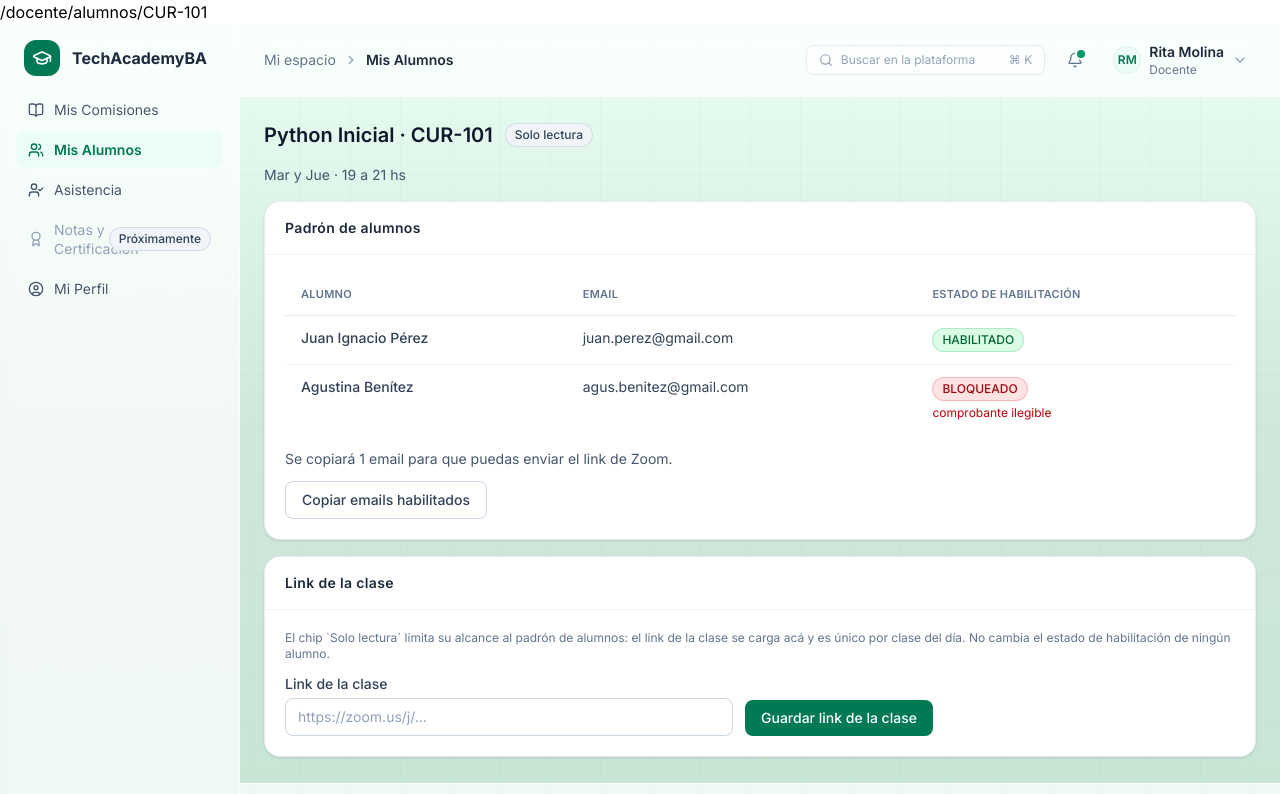
copia de emails habilitados › copia solo el correo del alumno habilitado
The image size is (1280, 794).
Expected: the heading "Python Inicial · CUR-101" is shown, [264,121,493,149]
Click the button "Copiar emails habilitados" at x=386, y=500, box [285,481,487,519]
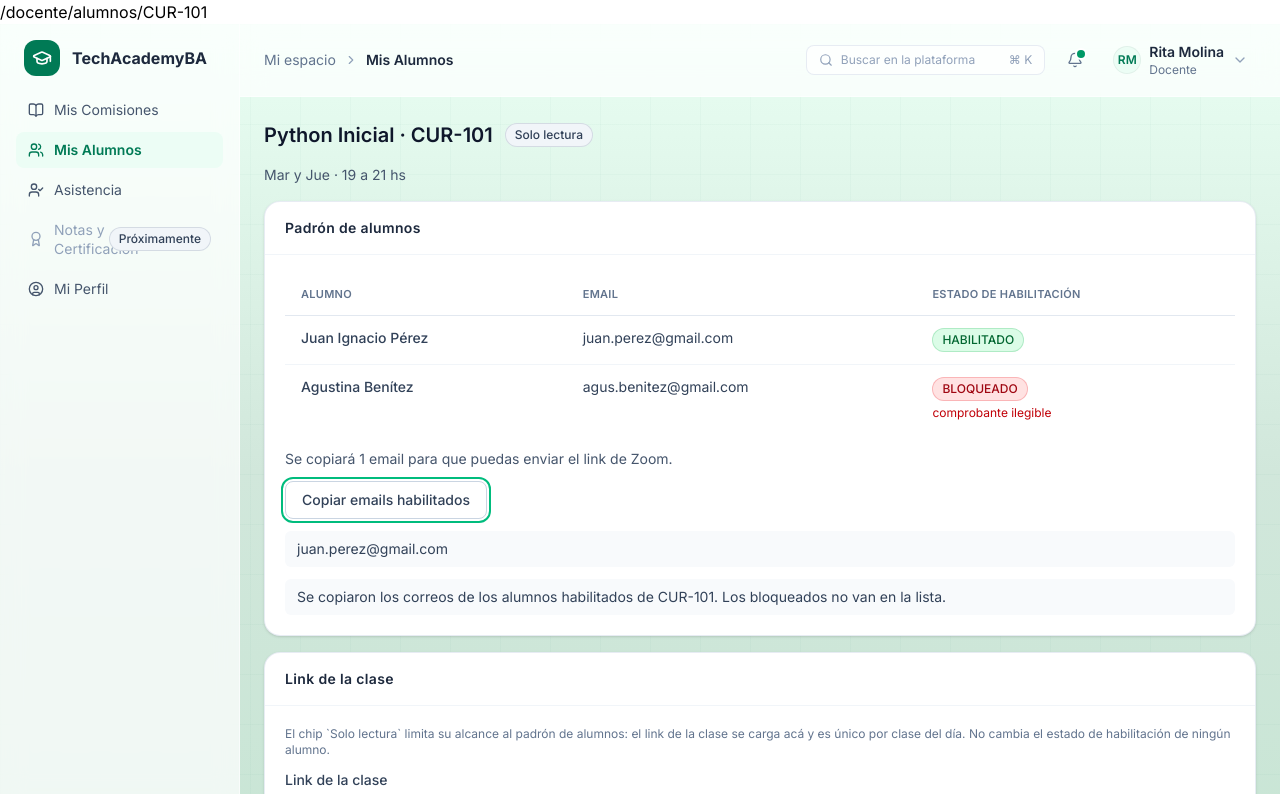
Result: the list items read "juan.perez@gmail.com", in this order at [297,540,448,557]
Result: the text "Se copiaron los correos de los alumnos habilitados de CUR-101. Los bloqueados no van en la lista." is shown at [297,588,946,605]
